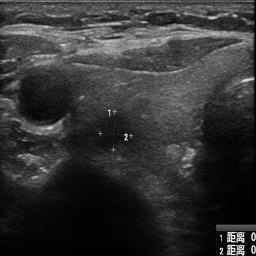mass: (99, 112, 131, 149)
